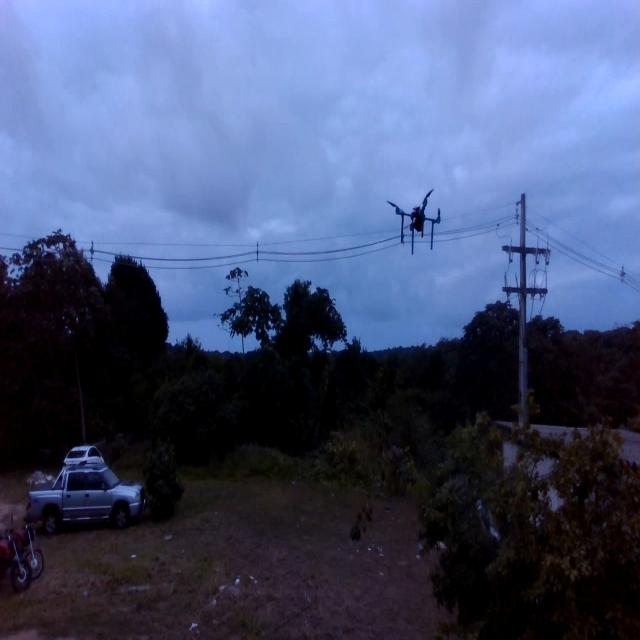-uav-: (383, 185, 452, 259)
